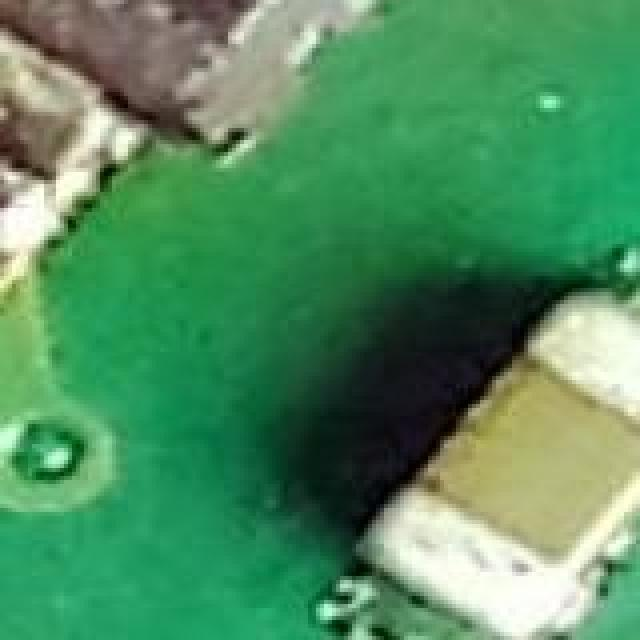capacitor: (320, 196, 640, 640)
diode: (0, 0, 640, 168)
